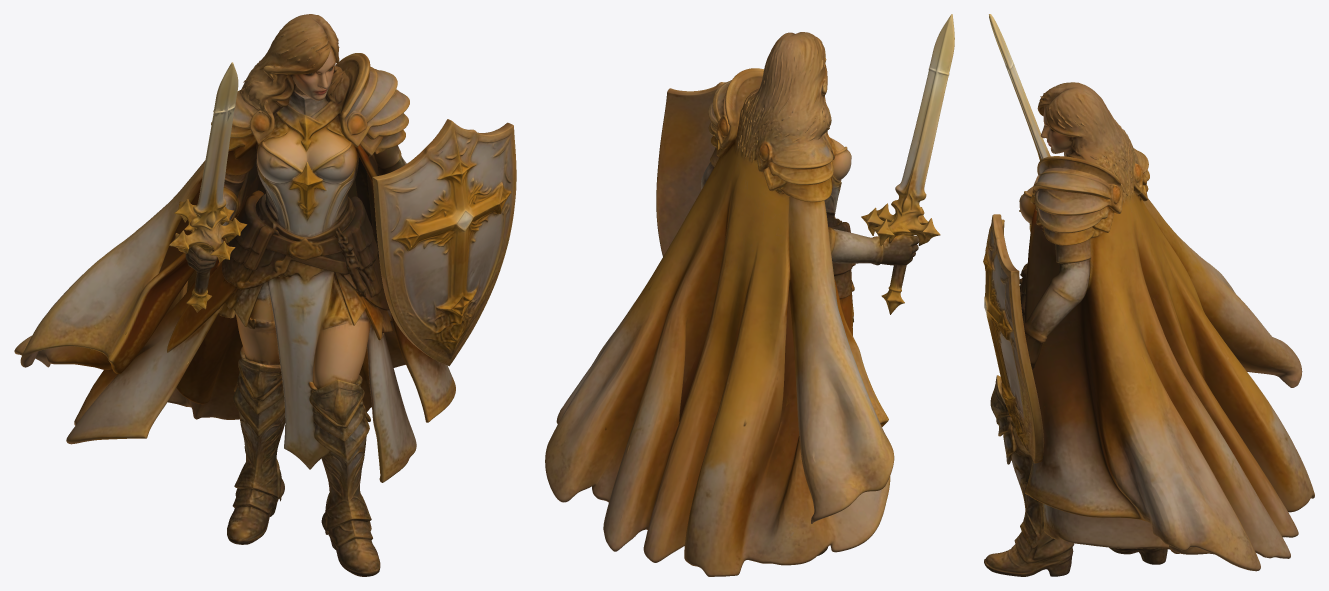
The model's file is paladin_full_female_01.glb.
3 renders of one model, left to right at view 1: azimuth 30°, elevation 25°; view 2: azimuth 150°, elevation 25°; view 3: azimuth 270°, elevation 25°, orthographic. The views are drawn at different scales.
Visible parts, largest first — view 1: material; view 2: material; view 3: material.
Boxes of the visible parts, box(x1,y1,x2,y2) form: material: box(14, 14, 516, 576); material: box(545, 14, 954, 576); material: box(983, 14, 1314, 576).
Size of the model in its own units: 0.7108 by 0.9523 by 0.5797.
Materials: 1 (1 with a texture image).
